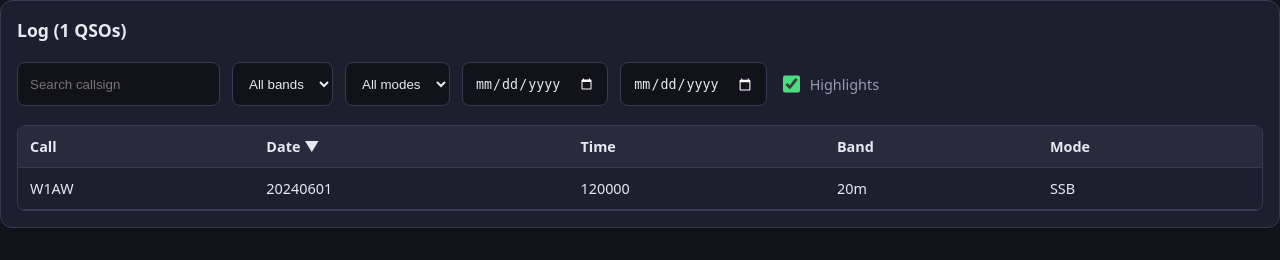
Test: LogTable Highlights view › restores Actions when Highlights is unchecked
Click the checkbox labelled "Highlights" at (792, 84), box [783,62,800,106]
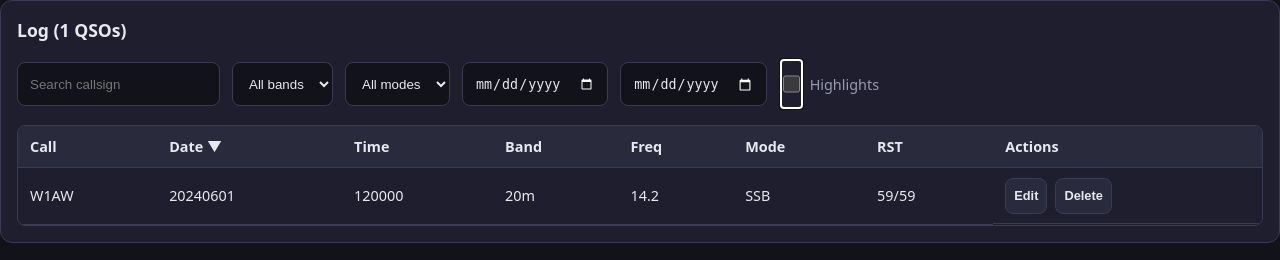
expect the column heading "Actions" is shown: met, box [993,126,1262,168]
expect the button "Edit" is shown: met, box [1005,178,1047,214]
expect the button "Delete" is shown: met, box [1055,178,1112,214]
